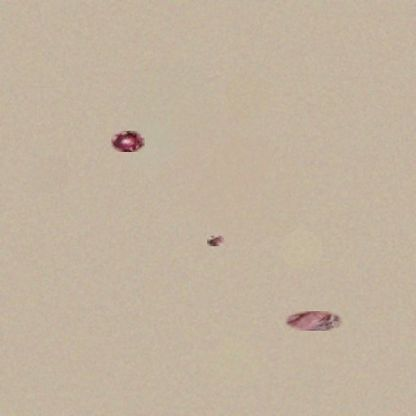damaged: (285, 311, 343, 331)
healthy: (111, 131, 145, 152)
sprouted: (207, 236, 224, 246)
